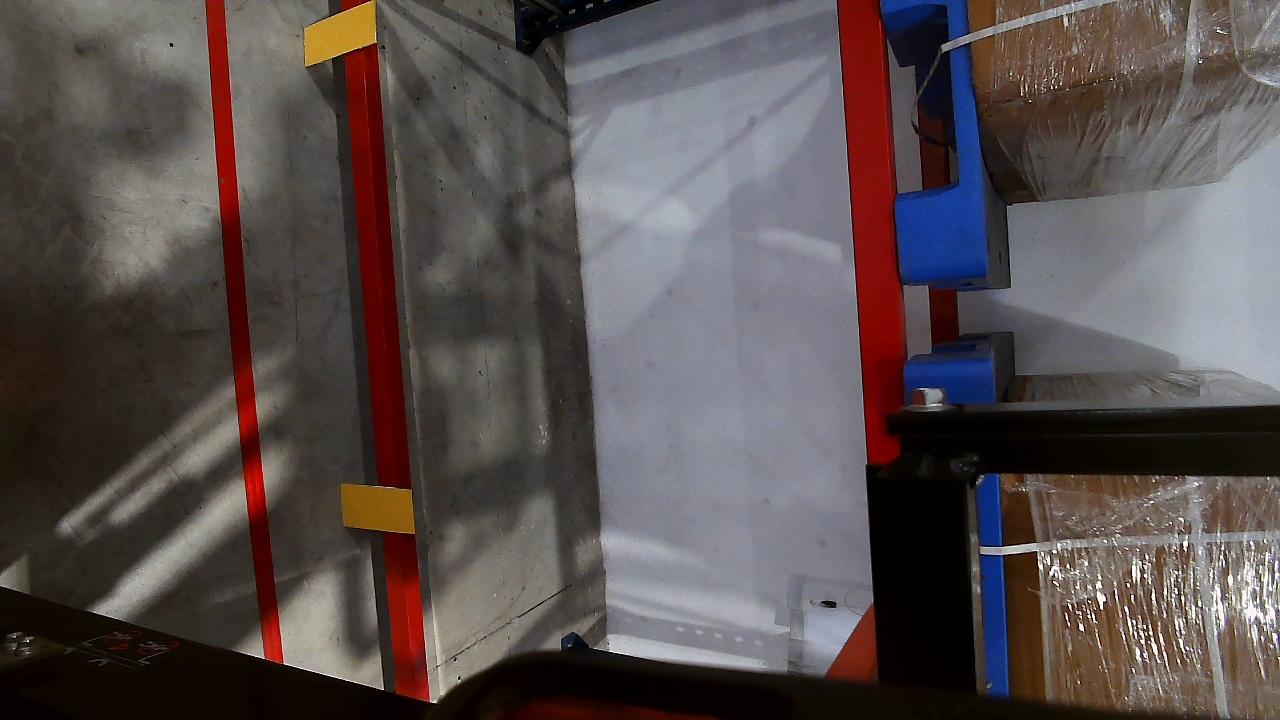h_rack: (342, 48, 429, 695), (836, 3, 908, 460)
orange_strip: (300, 1, 378, 61), (338, 483, 415, 533)
red_line: (202, 1, 267, 613)
small_pallet: (878, 0, 995, 278)
